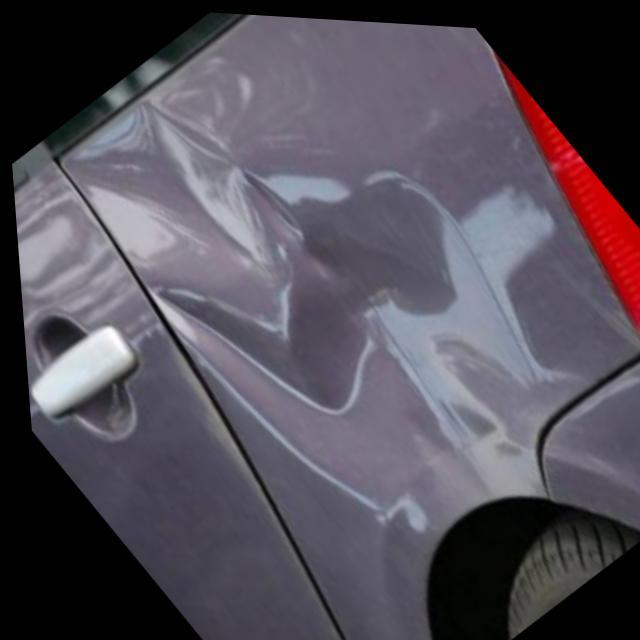dent: (75, 72, 551, 541)
